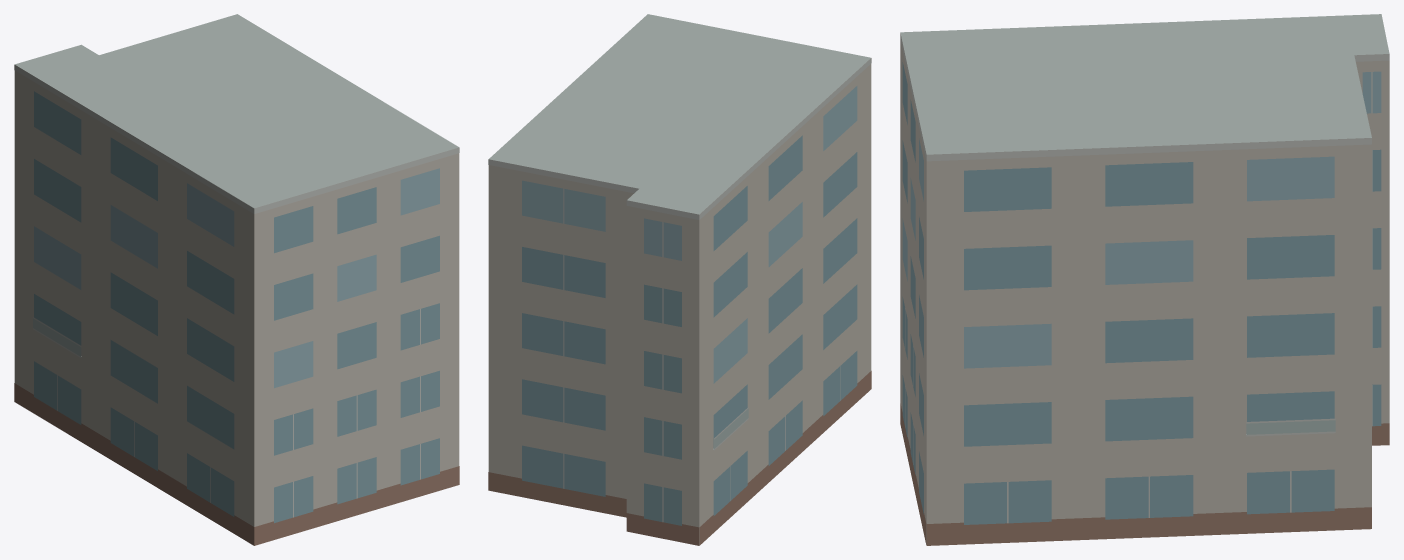
The model's file is survey-upis-33020751.glb.
3 renders of one model, left to right at view 1: azimuth 30°, elevation 25°; view 2: azimuth 150°, elevation 25°; view 3: azimuth 270°, elevation 25°, orthographic. The views are drawn at different scales.
Visible parts, largest first — view 1: survey-upis-33020751.tmp; view 2: survey-upis-33020751.tmp; view 3: survey-upis-33020751.tmp.
Boxes of the visible parts, x1,y1,x2,y2 form: survey-upis-33020751.tmp: (14, 14, 459, 545); survey-upis-33020751.tmp: (488, 14, 871, 545); survey-upis-33020751.tmp: (900, 14, 1389, 545).
Size of the model in its own units: 11.12 by 14.4 by 16.33.
